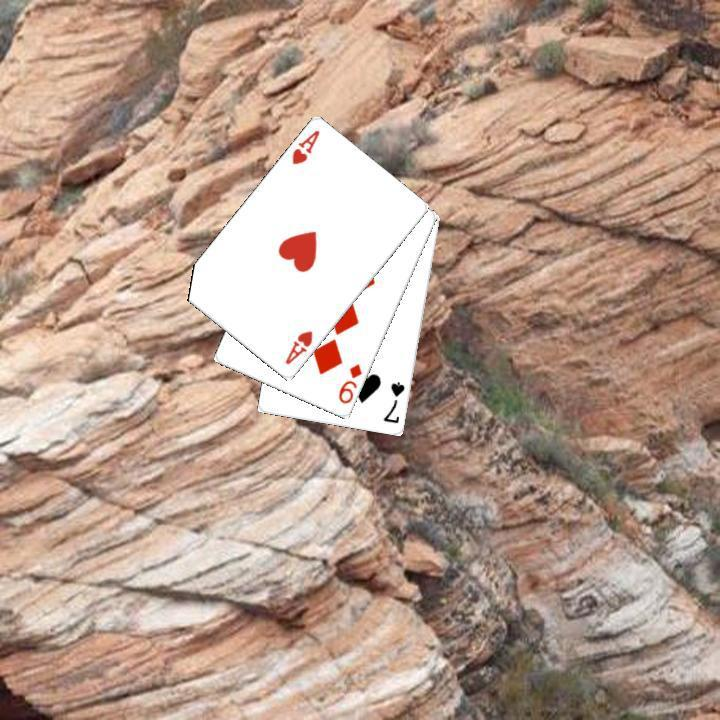7: (379, 378, 407, 426)
9: (334, 360, 364, 406)
A: (287, 126, 322, 167), (281, 326, 315, 367)
